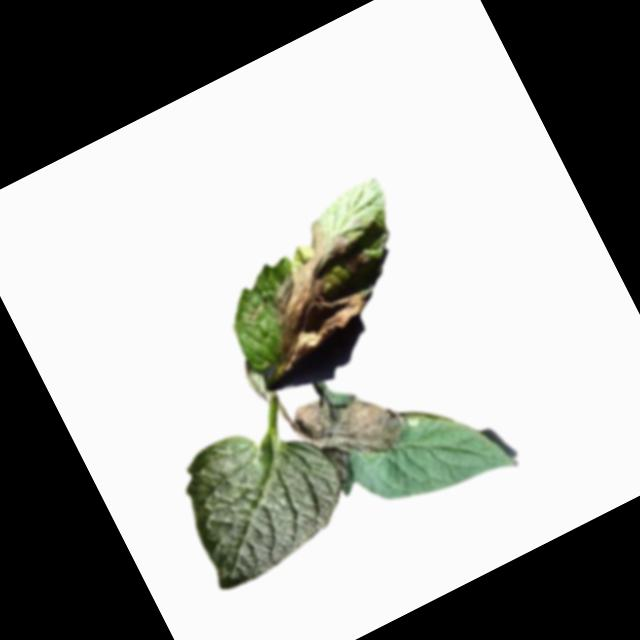Late_blight: (220, 204, 403, 379), (286, 366, 414, 487)
